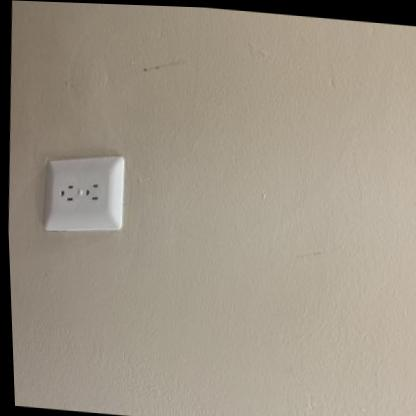OUTLET: (40, 154, 127, 236)
